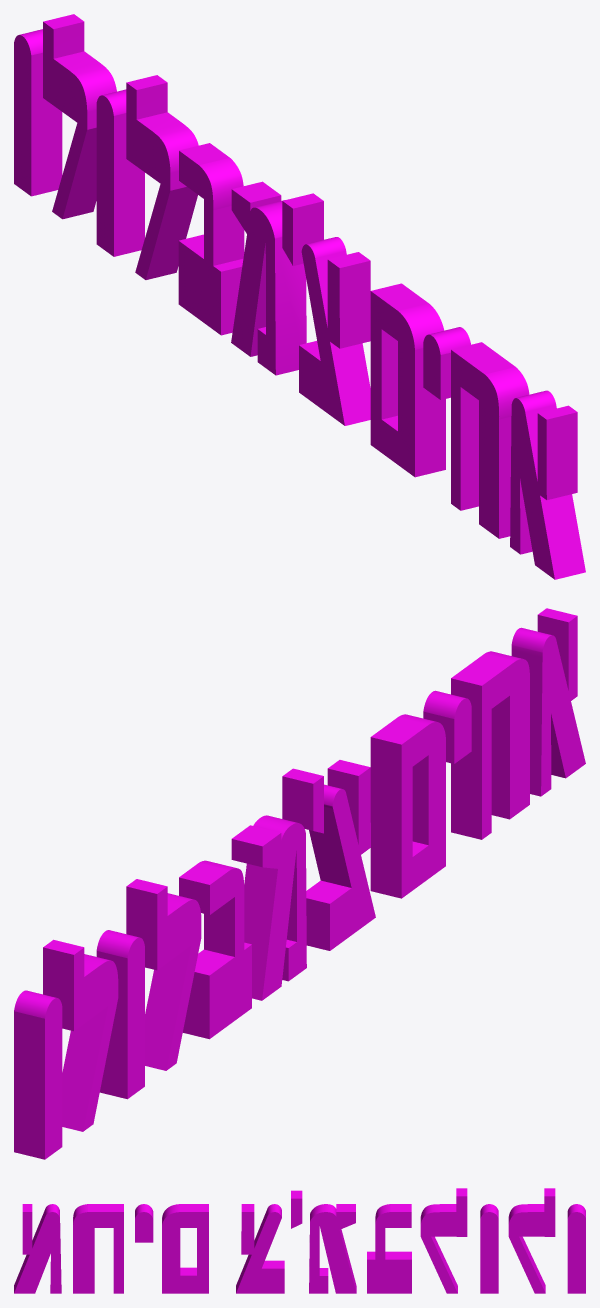
File: 12_title.gltf
The picture shows the model from 3 angles, top to bottom: view 1: azimuth 30°, elevation 25°; view 2: azimuth 150°, elevation 25°; view 3: azimuth 270°, elevation 25°; orthographic projection. The views are drawn at different scales.
Parts seen in each view (by area): view 1: Cap 2 (×11), כתום.9, כתום.6, כתום.7, כתום.8, כתום.5, כתום.3, כתום.4, כתום.1, כתום.2, כתום, נפח.1 (×2); view 2: Cap 2 (×11), כתום.7, כתום.8, כתום.3, כתום.1, כתום.5, כתום.6, כתום, כתום.4, כתום.9, כתום.2, נפח.1 (×2); view 3: Cap 1 (×12), כתום.6, כתום.5, כתום.3, כתום.1, כתום.4, כתום.7, כתום.9, כתום.8, כתום, נפח.1, כתום.2.
Part boxes in pixels (x1,y1,x2,y2): Cap 2 (×11): (14,22,554,579); כתום.9: (517,390,585,579); כתום.6: (299,237,370,425); כתום.7: (371,283,445,477); כתום.8: (451,342,529,538); כתום.5: (232,181,306,375); כתום.3: (126,75,198,279); כתום.4: (179,143,244,335); כתום.1: (43,14,116,218); כתום.2: (102,89,144,256); כתום: (19,29,62,196); נפח.1 (×2): (283,193,470,399); Cap 2 (×11): (45,616,585,1159); כתום.7: (370,714,436,898); כתום.8: (451,651,522,839); כתום.3: (126,879,193,1070); כתום.1: (43,939,110,1131); כתום.5: (231,815,297,1000); כתום.6: (306,760,370,950); כתום: (14,990,56,1159); כתום.4: (179,860,251,1039); כתום.9: (511,608,577,796); כתום.2: (96,930,139,1099); נפח.1 (×2): (282,690,465,830); Cap 1 (×12): (14,1196,585,1293); כתום.6: (236,1204,284,1292); כתום.5: (309,1204,356,1292); כתום.3: (420,1188,467,1293); כתום.1: (508,1188,555,1292); כתום.4: (367,1204,411,1259); כתום.7: (162,1204,208,1275); כתום.9: (14,1204,61,1292); כתום.8: (73,1204,123,1224); כתום: (567,1204,585,1218); נפח.1: (135,1204,153,1218); כתום.2: (480,1204,498,1218).
Size of the model in its own units: 200 by 1132 by 6048.
